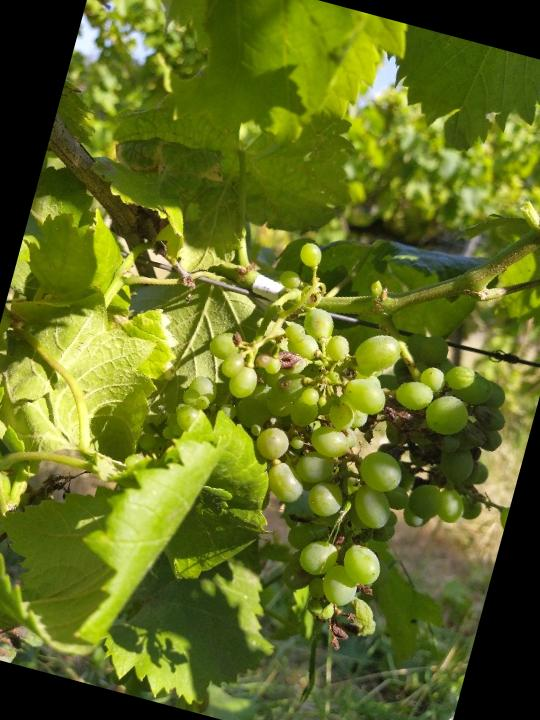grape: (137, 220, 540, 682)
